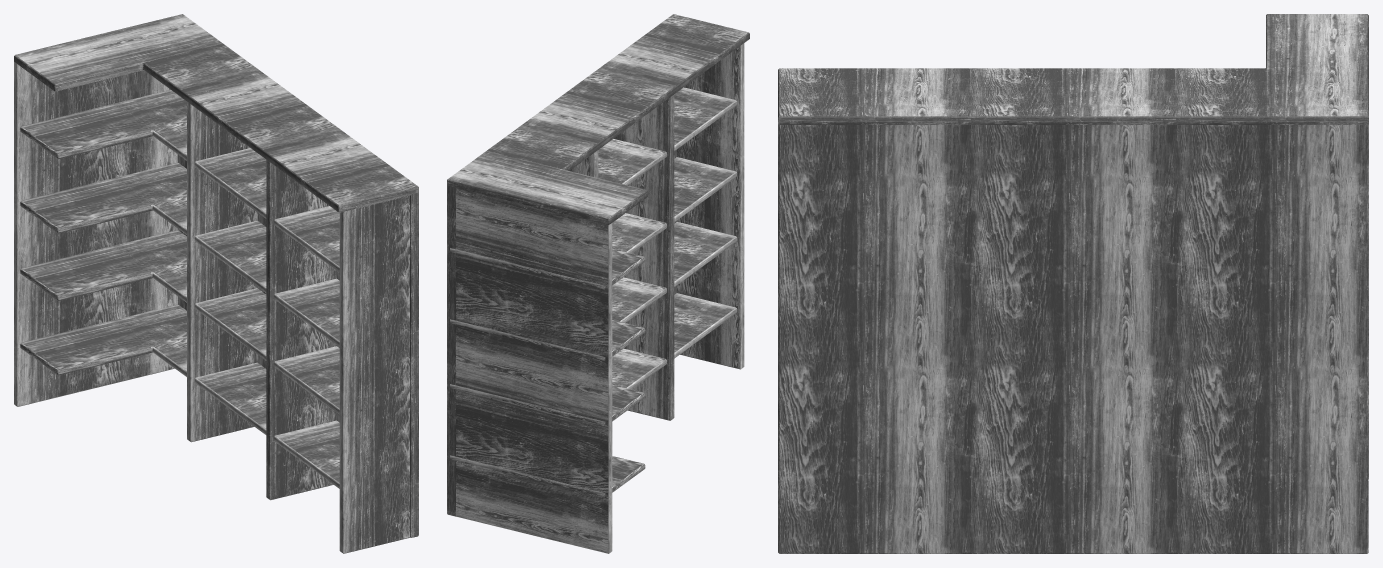
Rendered from SM_Shelf_C1.fbx.
3 views of the same model, side by side, from view 1: azimuth 30°, elevation 25°; view 2: azimuth 150°, elevation 25°; view 3: azimuth 270°, elevation 25° (orthographic). The views are drawn at different scales.
Parts seen in each view (by area): view 1: SM_Shelf_C1; view 2: SM_Shelf_C1; view 3: SM_Shelf_C1.
Part boxes in pixels (bbox=[...]): SM_Shelf_C1: bbox=[14, 14, 418, 553]; SM_Shelf_C1: bbox=[447, 14, 749, 553]; SM_Shelf_C1: bbox=[778, 14, 1368, 553].
Size of the model in its own units: 106 by 256 by 209.
Materials: 1 (1 with a texture image).
